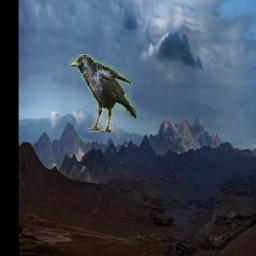Crow: (70, 54, 137, 132)
